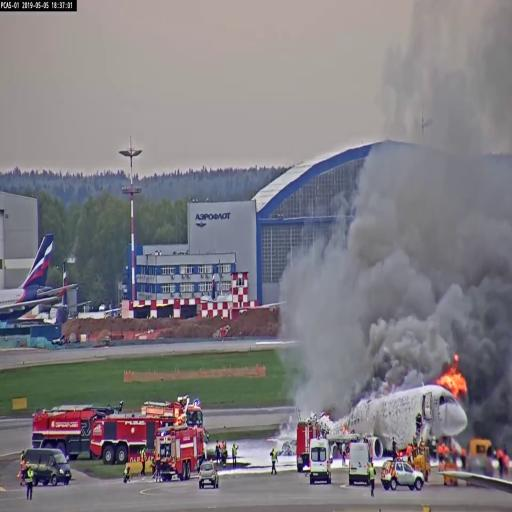fire: (438, 357, 470, 408)
smoke: (415, 5, 512, 350), (356, 140, 433, 374), (285, 246, 373, 396), (470, 279, 512, 426)
